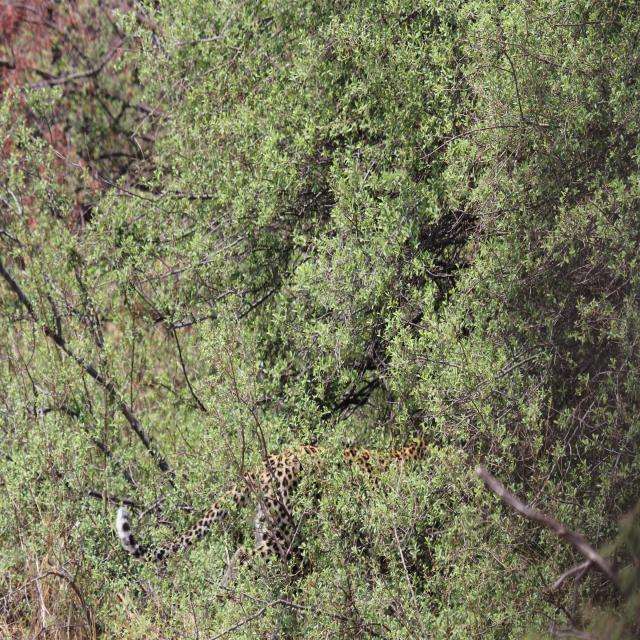Leopard: (114, 433, 434, 595)
